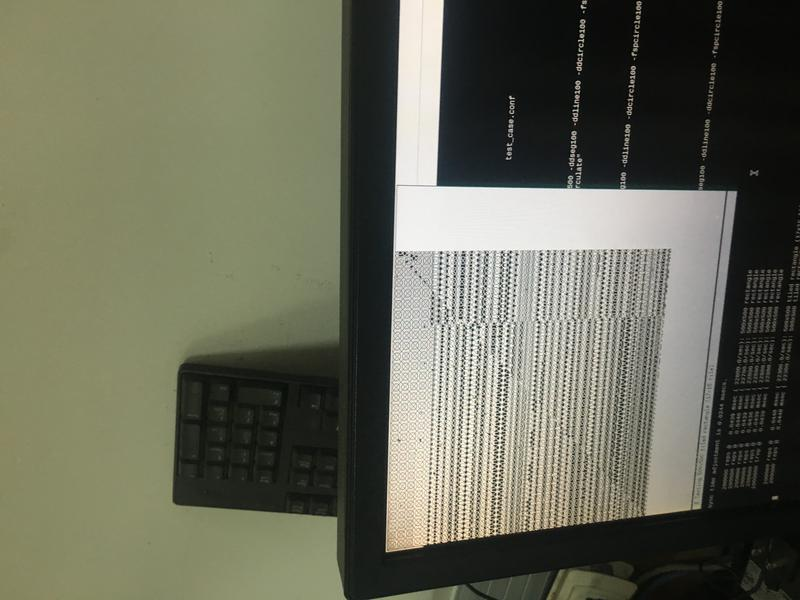xrandr_pass: (389, 178, 742, 547)
